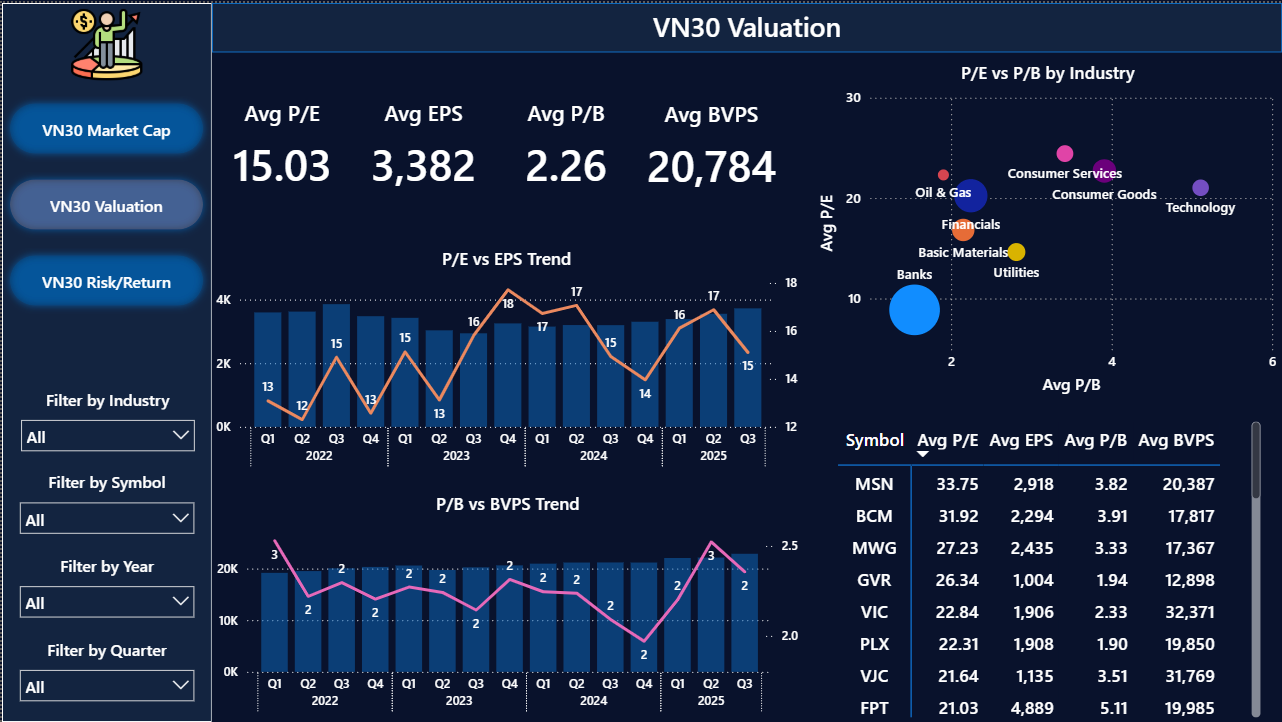

The page's visual inventory and layout, read from the dashboard file:
{"tool":"powerbi","page":{"name":"VN30 Valuation","canvas":[1280,720],"ordinal":1},"visuals":[{"type":"group","id":"g1","title":"Group 1","box":[0,0,209.9,719],"z":0,"group":"g3"},{"type":"shape","title":"Shape","box":[0,0,209.9,719],"z":0,"group":"g1"},{"type":"shape","title":"Shape","box":[209.9,0,1070.1,49.5],"z":0,"group":"g2"},{"type":"scatterChart","title":"P/E vs P/B by Industry","fields":{"X":["fact_quarterly_ratio.Avg P/B"],"Size":["fact_quarterly_ratio.Total Market Capital"],"Series":["dim_company.en_icb_name"],"Y":["fact_quarterly_ratio.Avg P/E"]},"box":[813.1,57.5,466.9,339],"z":0},{"type":"image","box":[0,0,209.7,83.3],"z":1000,"group":"g3"},{"type":"textbox","box":[209.9,0,1070.1,49.5],"z":1000,"group":"g2"},{"type":"card","title":"Avg P/E","fields":{"Values":["fact_quarterly_ratio.Avg P/E"]},"box":[219.8,94.8,120.7,102],"z":1000},{"type":"slicer","title":"Filter by Quarter","fields":{"Values":["dim_date.quarter"]},"box":[8,634.7,195.1,73.5],"z":1000,"group":"g1"},{"type":"group","id":"g2","title":"Group 2","box":[209.9,0,1070.1,49.5],"z":2000},{"type":"pageNavigator","box":[0,91.9,209.7,218.4],"z":2000,"group":"g3"},{"type":"slicer","title":"Filter by Year","fields":{"Values":["dim_date.year"]},"box":[8,551.4,195.1,73.5],"z":2000,"group":"g1"},{"type":"lineStackedColumnComboChart","title":"P/E vs EPS Trend","fields":{"Category":["dim_date.year","dim_date.quarter"],"Y2":["fact_quarterly_ratio.Avg P/E"],"Y":["fact_quarterly_ratio.Avg EPS"]},"box":[208.3,244.2,591.9,231.3],"z":3000},{"type":"slicer","title":"Filter by Symbol","fields":{"Values":["dim_company.symbol"]},"box":[8,468.1,195.1,73.5],"z":3000,"group":"g1"},{"type":"slicer","title":"Filter by Industry","fields":{"Values":["dim_company.en_icb_name"]},"box":[8.6,385,193.9,73.3],"z":4000,"group":"g1"},{"type":"lineStackedColumnComboChart","title":"P/B vs BVPS Trend","fields":{"Category":["dim_date.year","dim_date.quarter"],"Y2":["fact_quarterly_ratio.Avg P/B"],"Y":["fact_quarterly_ratio.Avg BVPS"]},"box":[209.7,488.4,591.9,231.3],"z":4000},{"type":"pivotTable","title":"Valuation by Symbol","fields":{"Rows":["dim_company.symbol"],"Values":["fact_quarterly_ratio.Avg P/E","fact_quarterly_ratio.Avg EPS","fact_quarterly_ratio.Avg P/B","fact_quarterly_ratio.Avg BVPS"]},"box":[831.8,413.7,432.4,306],"z":5000},{"type":"card","title":"Avg P/B","fields":{"Values":["fact_quarterly_ratio.Avg P/B"]},"box":[503.8,94.8,120.7,102],"z":6000},{"type":"card","title":"Avg EPS","fields":{"Values":["fact_quarterly_ratio.Avg EPS"]},"box":[346.7,94.8,150.8,102],"z":7000},{"type":"card","title":"Avg BVPS","fields":{"Values":["fact_quarterly_ratio.Avg BVPS"]},"box":[630.7,96.3,156.6,102],"z":8000},{"type":"group","id":"g3","title":"Group 3","box":[0,0,209.9,719],"z":9000}]}

Visuals, with their boxes in screenshot pixels (x1, y1, x2, y2), scaled from the page's 1280x720 canvas onto the 1282x722 screenshot:
"Group 1" group: {"x1": 0, "y1": 0, "x2": 210, "y2": 721}
"Shape" shape: {"x1": 0, "y1": 0, "x2": 210, "y2": 721}
"Shape" shape: {"x1": 210, "y1": 0, "x2": 1281, "y2": 50}
"P/E vs P/B by Industry" scatterChart: {"x1": 814, "y1": 58, "x2": 1281, "y2": 398}
image: {"x1": 0, "y1": 0, "x2": 210, "y2": 84}
textbox: {"x1": 210, "y1": 0, "x2": 1281, "y2": 50}
"Avg P/E" card: {"x1": 220, "y1": 95, "x2": 341, "y2": 197}
"Filter by Quarter" slicer: {"x1": 8, "y1": 636, "x2": 203, "y2": 710}
"Group 2" group: {"x1": 210, "y1": 0, "x2": 1281, "y2": 50}
pageNavigator: {"x1": 0, "y1": 92, "x2": 210, "y2": 311}
"Filter by Year" slicer: {"x1": 8, "y1": 553, "x2": 203, "y2": 627}
"P/E vs EPS Trend" lineStackedColumnComboChart: {"x1": 209, "y1": 245, "x2": 801, "y2": 477}
"Filter by Symbol" slicer: {"x1": 8, "y1": 469, "x2": 203, "y2": 543}
"Filter by Industry" slicer: {"x1": 9, "y1": 386, "x2": 203, "y2": 460}
"P/B vs BVPS Trend" lineStackedColumnComboChart: {"x1": 210, "y1": 490, "x2": 803, "y2": 721}
"Valuation by Symbol" pivotTable: {"x1": 833, "y1": 415, "x2": 1266, "y2": 721}
"Avg P/B" card: {"x1": 505, "y1": 95, "x2": 625, "y2": 197}
"Avg EPS" card: {"x1": 347, "y1": 95, "x2": 498, "y2": 197}
"Avg BVPS" card: {"x1": 632, "y1": 97, "x2": 789, "y2": 199}
"Group 3" group: {"x1": 0, "y1": 0, "x2": 210, "y2": 721}
